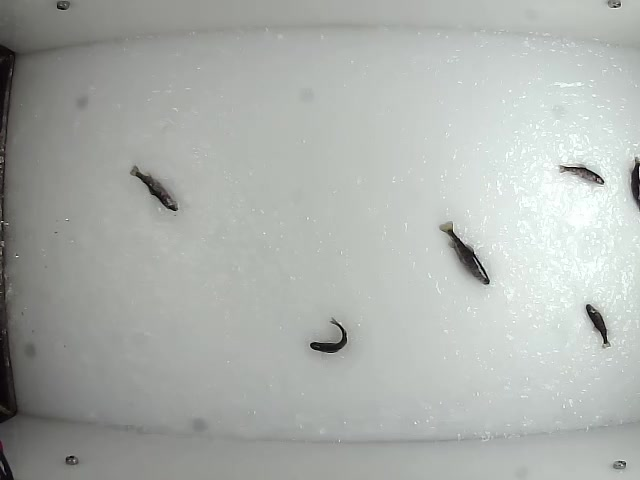fish: (437, 219, 490, 288), (127, 165, 181, 214), (584, 302, 613, 351), (308, 317, 347, 353), (557, 163, 605, 186)
